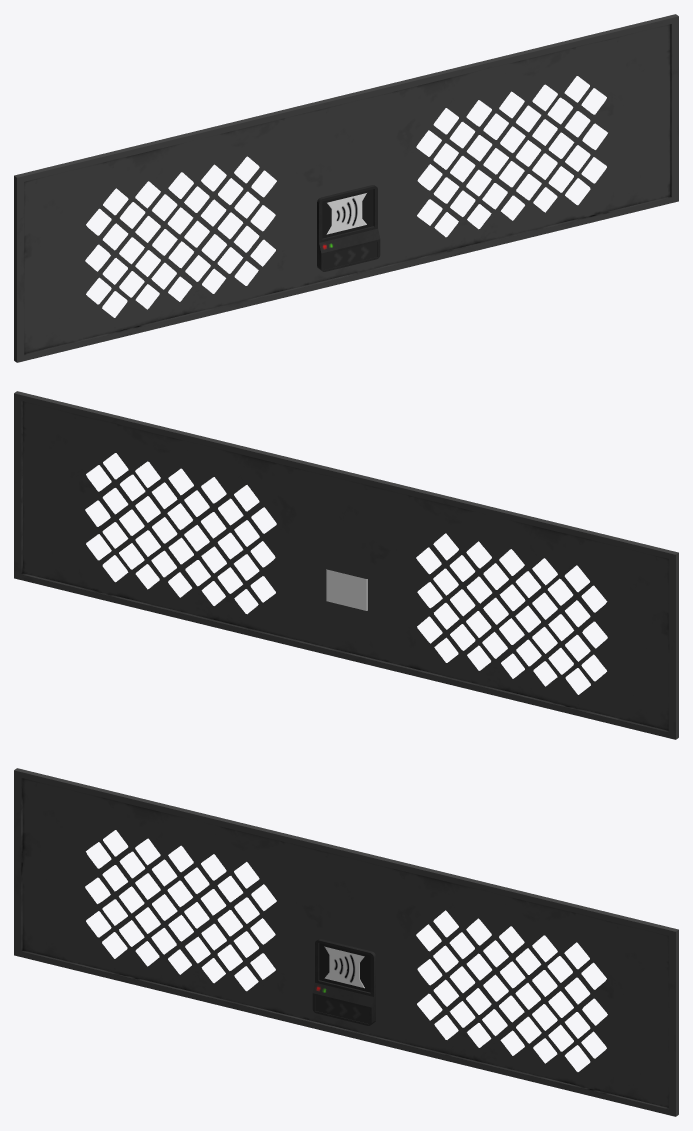
3 views of the same model, one above another, from view 1: azimuth 30°, elevation 25°; view 2: azimuth 150°, elevation 25°; view 3: azimuth 330°, elevation 25° (orthographic).
Visible parts, largest first — view 1: Cube.001, Cube.002, KeycardGranted; view 2: Cube.001, KeycardIdle; view 3: Cube.001, Cube.002, KeycardGranted.
Part boxes in pixels (x1,y1,x2,y2): Cube.001: (14,14,678,362); Cube.002: (317,185,380,271); KeycardGranted: (326,193,366,234); Cube.001: (14,391,678,739); KeycardIdle: (326,569,367,610); Cube.001: (14,768,678,1116); Cube.002: (312,939,375,1025); KeycardGranted: (324,946,364,988).
Bounding box in the file's own units: 3.29 × 0.8791 × 0.0513.
5 materials, 5 textured.
